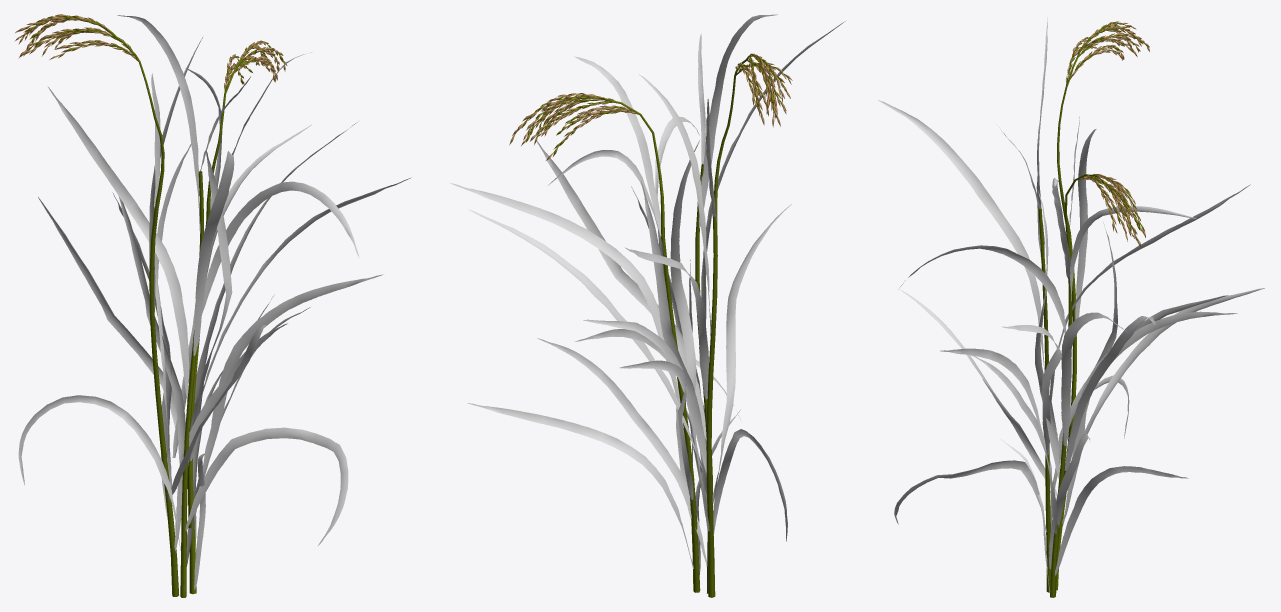
Rendered from Paddy_full_strand_3D.fbx.
The picture shows the model from 3 angles, left to right: view 1: azimuth 30°, elevation 25°; view 2: azimuth 150°, elevation 25°; view 3: azimuth 270°, elevation 25°; orthographic projection. The views are drawn at different scales.
Visible parts, largest first — view 1: MT_PM_V93_Oryza_sativa_01_04.005; view 2: MT_PM_V93_Oryza_sativa_01_04.005; view 3: MT_PM_V93_Oryza_sativa_01_04.005.
Part boxes in pixels (x1,y1,x2,y2): MT_PM_V93_Oryza_sativa_01_04.005: (14, 14, 411, 597); MT_PM_V93_Oryza_sativa_01_04.005: (450, 14, 845, 597); MT_PM_V93_Oryza_sativa_01_04.005: (878, 17, 1264, 597).
Size of the model in its own units: 69.52 by 115 by 74.84.
Materials: 3 (2 with a texture image).
